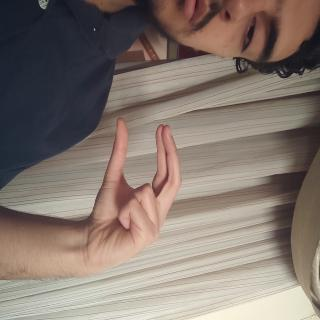DHELL: (86, 181, 212, 319)
